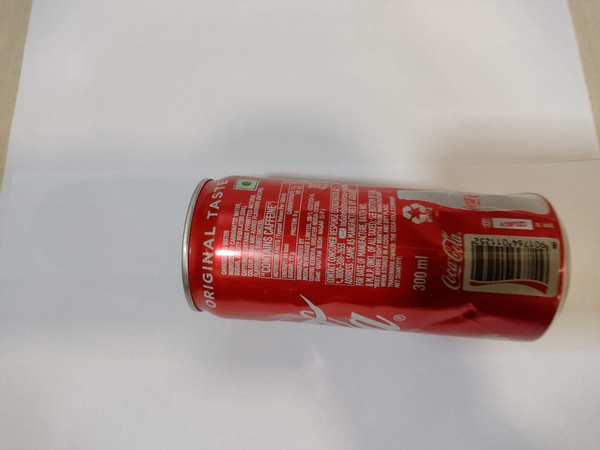can: (180, 165, 578, 349)
